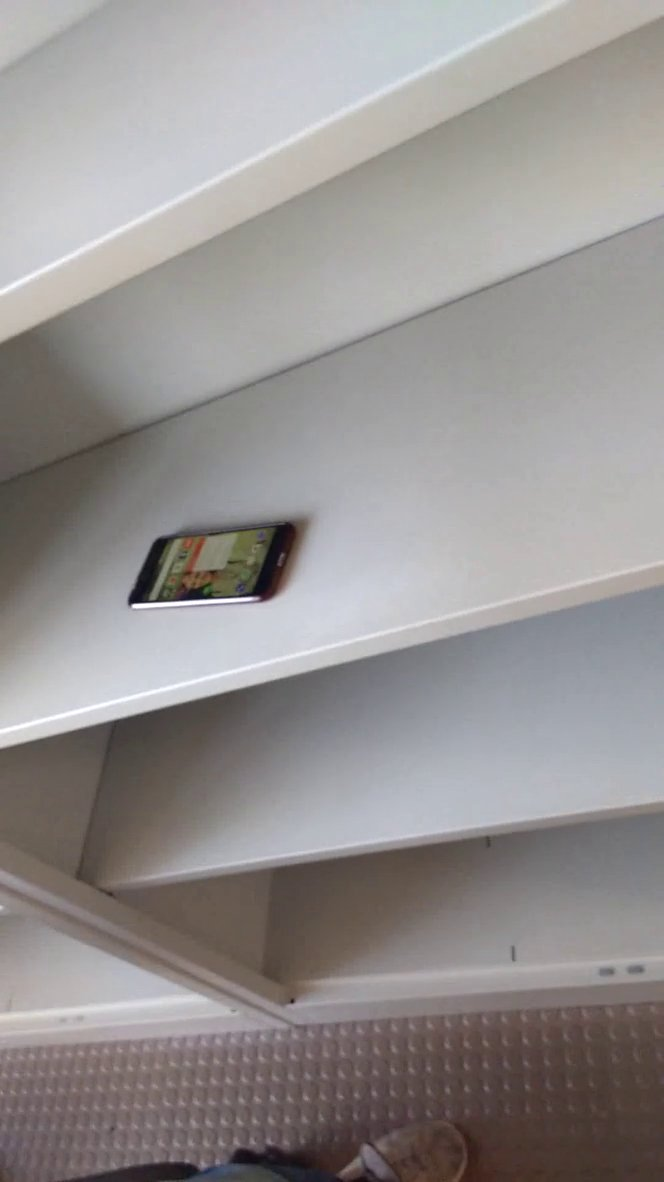phone: (118, 507, 312, 614)
